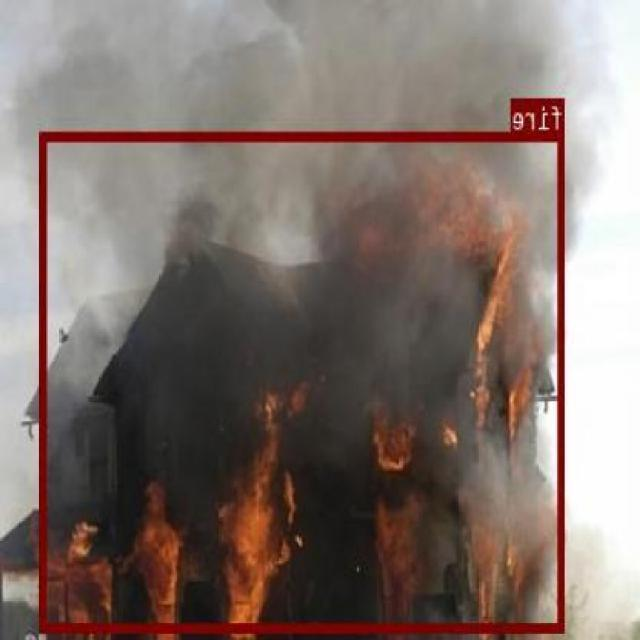Fire: (41, 131, 566, 631)
